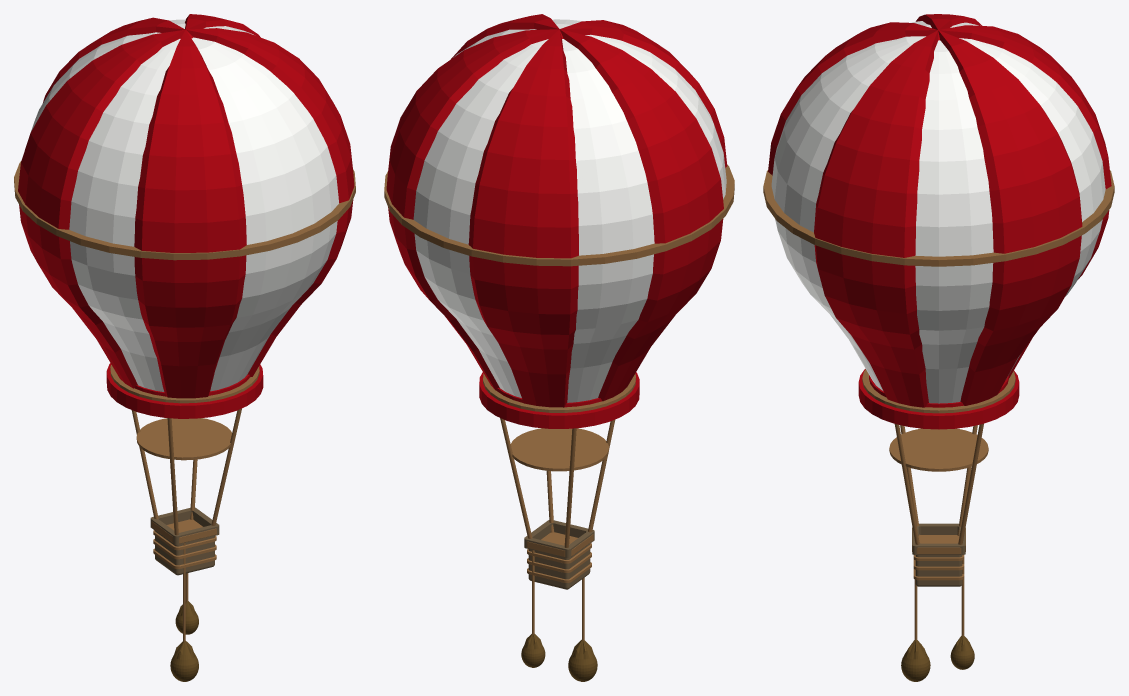
The model's file is HotAirBalloon.fbx.
The picture shows the model from 3 angles, left to right: view 1: azimuth 30°, elevation 25°; view 2: azimuth 150°, elevation 25°; view 3: azimuth 270°, elevation 25°; orthographic projection. The views are drawn at different scales.
Parts seen in each view (by area): view 1: Sphere, Sphere.001, Cylinder.006, Cylinder.010, Cylinder.005, Cube, Cylinder.007, Sphere.002, Cube.004, Cylinder.003, Cylinder.004, Sphere.003; view 2: Sphere, Sphere.001, Cylinder.006, Cylinder.010, Cylinder.005, Cube, Cylinder.007, Sphere.002, Cube.004, Sphere.003, Cylinder.002, Cylinder.001; view 3: Sphere, Sphere.001, Cylinder.006, Cylinder.010, Cylinder.005, Cube, Cylinder.007, Sphere.002, Cube.004, Cylinder.002, Cylinder.003, Sphere.003.
Part boxes in pixels (left/top/right/bottom): Sphere: left=18, top=14, right=354, bottom=398; Sphere.001: left=31, top=19, right=338, bottom=391; Cylinder.006: left=14, top=161, right=355, bottom=260; Cylinder.010: left=136, top=418, right=231, bottom=460; Cylinder.005: left=106, top=363, right=263, bottom=418; Cube: left=150, top=507, right=219, bottom=575; Cylinder.007: left=110, top=365, right=259, bottom=403; Sphere.002: left=170, top=641, right=198, bottom=681; Cube.004: left=151, top=519, right=216, bottom=543; Cylinder.003: left=211, top=408, right=241, bottom=525; Cylinder.004: left=167, top=418, right=178, bottom=535; Sphere.003: left=175, top=601, right=198, bottom=634; Sphere: left=386, top=14, right=727, bottom=407; Sphere.001: left=413, top=19, right=726, bottom=402; Cylinder.006: left=384, top=164, right=734, bottom=266; Cylinder.010: left=510, top=428, right=608, bottom=471; Cylinder.005: left=479, top=372, right=639, bottom=428; Cube: left=524, top=520, right=594, bottom=589; Cylinder.007: left=483, top=373, right=635, bottom=412; Sphere.002: left=568, top=639, right=597, bottom=681; Cube.004: left=526, top=532, right=593, bottom=556; Sphere.003: left=521, top=634, right=545, bottom=667; Cylinder.002: left=500, top=418, right=532, bottom=538; Cylinder.001: left=564, top=402, right=577, bottom=547; Sphere: left=768, top=14, right=1111, bottom=407; Sphere.001: left=771, top=21, right=1105, bottom=403; Cylinder.006: left=763, top=170, right=1114, bottom=266; Cylinder.010: left=889, top=428, right=988, bottom=471; Cylinder.005: left=858, top=369, right=1019, bottom=429; Cube: left=912, top=523, right=965, bottom=586; Cylinder.007: left=862, top=369, right=1015, bottom=413; Sphere.002: left=901, top=640, right=930, bottom=681; Cube.004: left=912, top=528, right=965, bottom=554; Cylinder.002: left=958, top=423, right=983, bottom=544; Cylinder.003: left=894, top=424, right=919, bottom=544; Sphere.003: left=950, top=635, right=974, bottom=669.
Size of the model in its own units: 1681 by 3469 by 1681.
